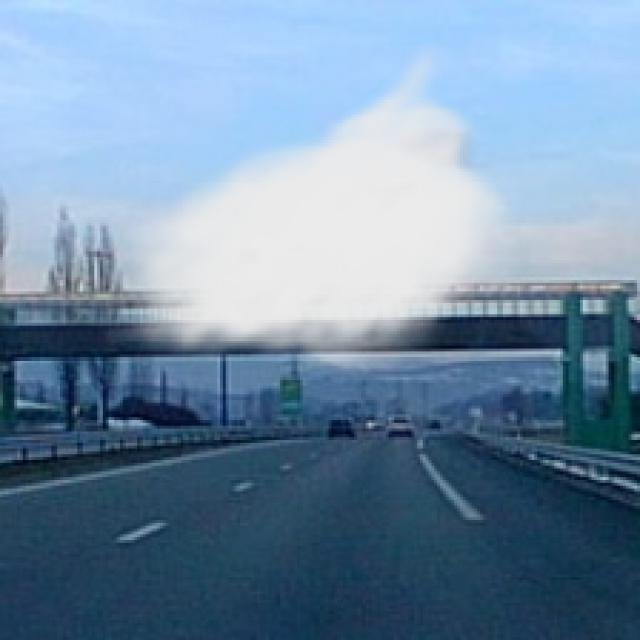smoke: (103, 34, 526, 377)
